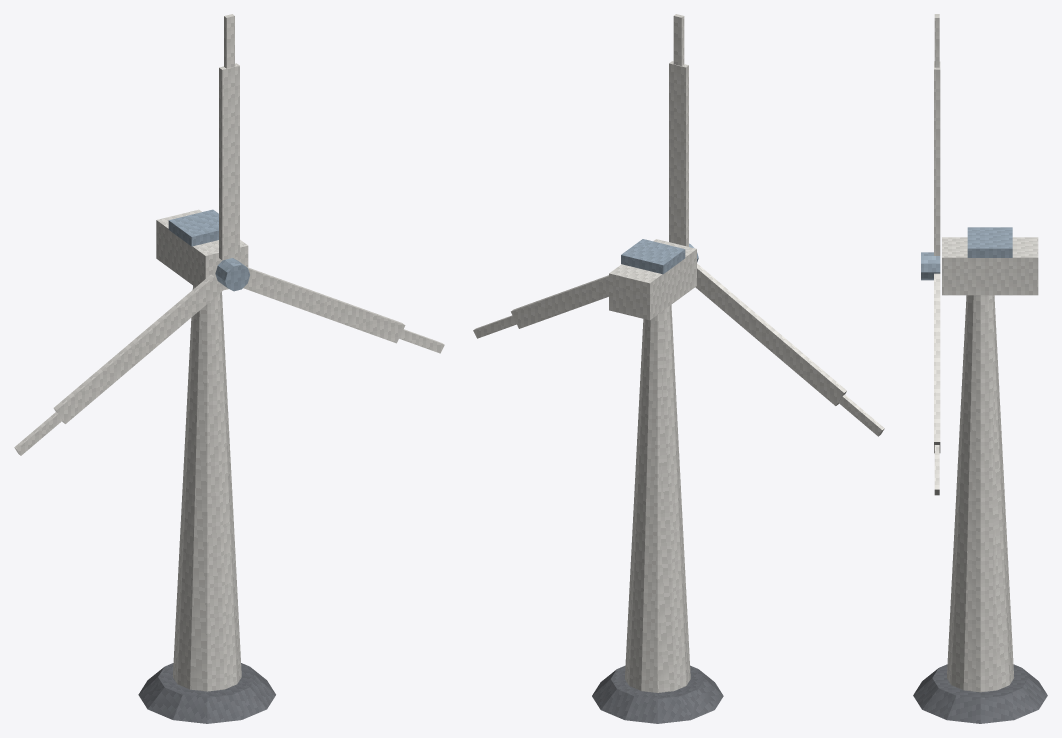
3 views of the same model, side by side, from view 1: azimuth 30°, elevation 25°; view 2: azimuth 150°, elevation 25°; view 3: azimuth 270°, elevation 25° (orthographic). The views are drawn at different scales.
Visible parts, largest first — view 1: wind-turbine, rotor/white, rotor/slate; view 2: wind-turbine, rotor/white; view 3: wind-turbine, rotor/white, rotor/slate.
Boxes of the visible parts, x1=… form: wind-turbine: x1=138, y1=209, x2=275, y2=723; rotor/white: x1=14, y1=14, x2=444, y2=455; rotor/slate: x1=215, y1=258, x2=249, y2=291; wind-turbine: x1=592, y1=239, x2=723, y2=723; rotor/white: x1=473, y1=14, x2=884, y2=436; wind-turbine: x1=913, y1=227, x2=1047, y2=723; rotor/white: x1=934, y1=14, x2=940, y2=495; rotor/slate: x1=921, y1=252, x2=940, y2=280.
Size of the model in its own units: 15.05 by 23.35 by 4.2.
3 materials, 3 textured.
